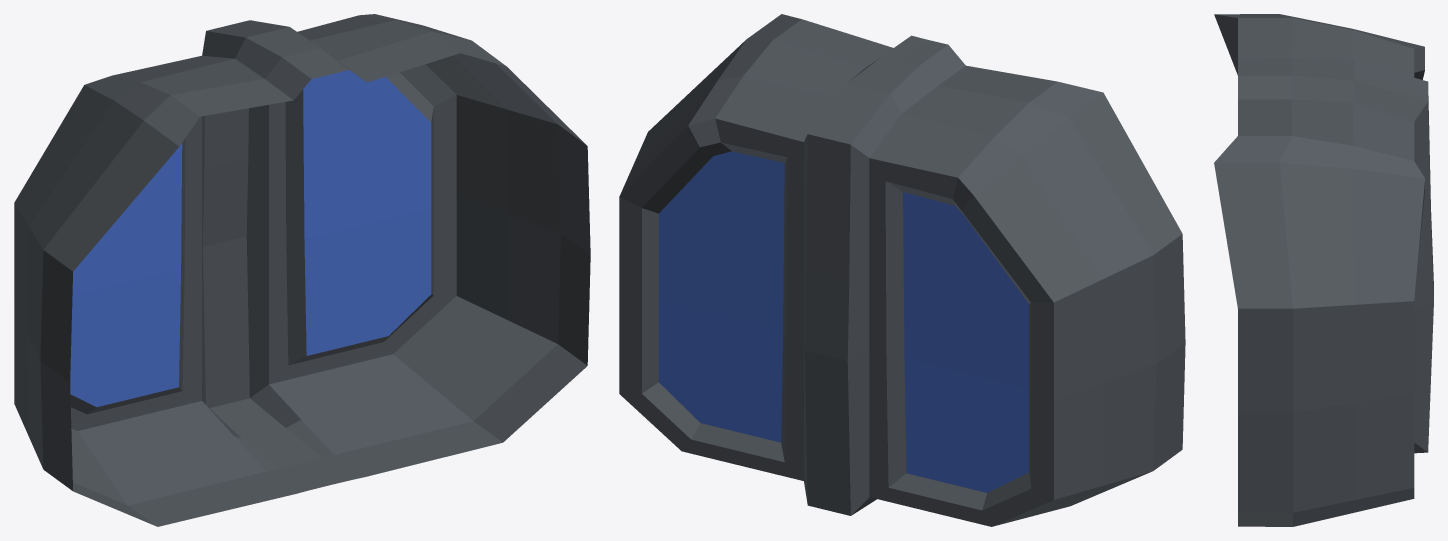
Rendered from Fighter_10_End_Cap_Blue.fbx.
The picture shows the model from 3 angles, left to right: view 1: azimuth 30°, elevation 25°; view 2: azimuth 150°, elevation 25°; view 3: azimuth 270°, elevation 25°; orthographic projection. The views are drawn at different scales.
Parts seen in each view (by area): view 1: Fighter_10_End_Cap_Blue; view 2: Fighter_10_End_Cap_Blue; view 3: Fighter_10_End_Cap_Blue.
Boxes of the visible parts, x1=… form: Fighter_10_End_Cap_Blue: x1=14, y1=14, x2=590, y2=526; Fighter_10_End_Cap_Blue: x1=619, y1=14, x2=1185, y2=526; Fighter_10_End_Cap_Blue: x1=1214, y1=14, x2=1433, y2=526.
Bounding box in the file's own units: 788 × 596 × 311.
Materials: 1 (1 with a texture image).
